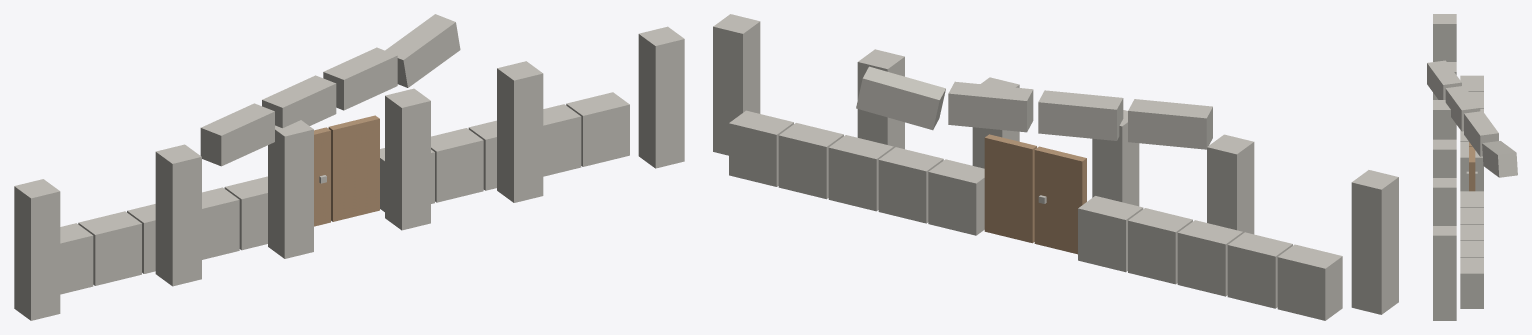
Rendered from p371MergeKit.6b3f5e26.glb.
The picture shows the model from 3 angles, left to right: view 1: azimuth 30°, elevation 25°; view 2: azimuth 150°, elevation 25°; view 3: azimuth 270°, elevation 25°; orthographic projection. The views are drawn at different scales.
Parts seen in each view (by area): view 1: __merged, door_right, door_left; view 2: __merged, door_right, door_left; view 3: __merged, door_right.
Part boxes in pixels (left/top/right/bottom): __merged: left=14, top=14, right=684, bottom=320; door_right: left=328, top=115, right=379, bottom=221; door_left: left=314, top=127, right=330, bottom=226; __merged: left=713, top=14, right=1398, bottom=320; door_right: left=984, top=134, right=1036, bottom=243; door_left: left=1034, top=146, right=1086, bottom=254; __merged: left=1427, top=14, right=1517, bottom=320; door_right: left=1469, top=146, right=1475, bottom=191.
Size of what is drawn, in the model's own units: 6.7 by 1.47 by 1.16.
